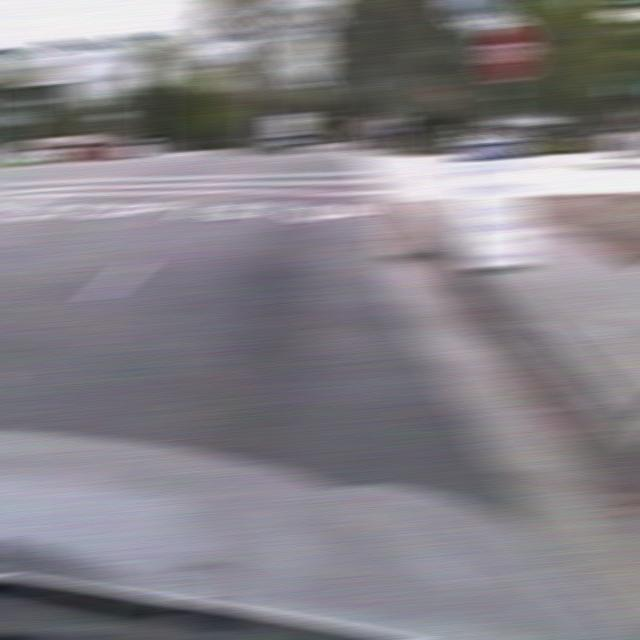stop_sign: (478, 25, 536, 82)
